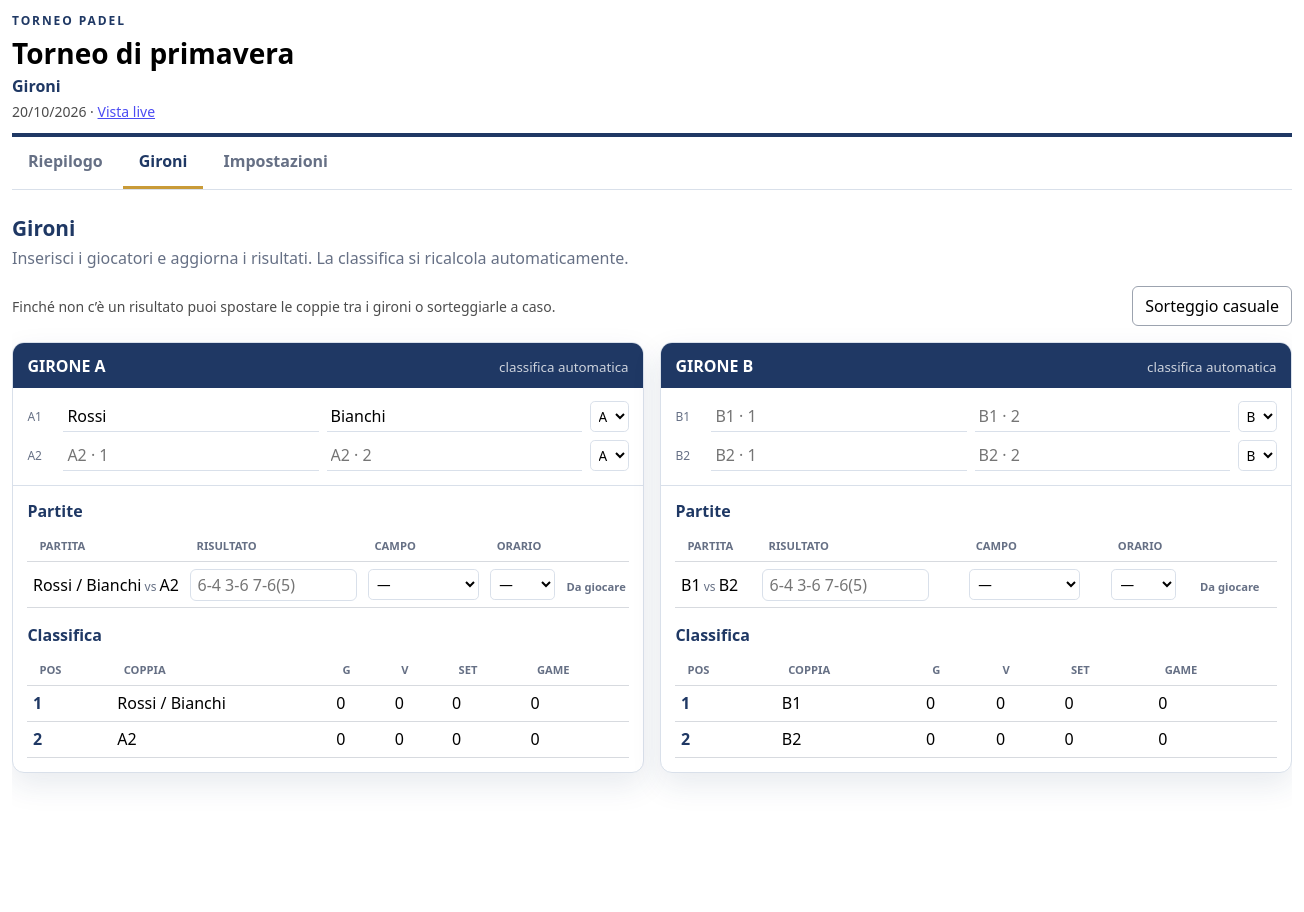
Test: TournamentPage › groups tab › saves the player names when leaving the field
Type "Verdi" into the field named "Giocatore 1 di A2" at {"x": 191, "y": 456}, box [63,440,318,471]
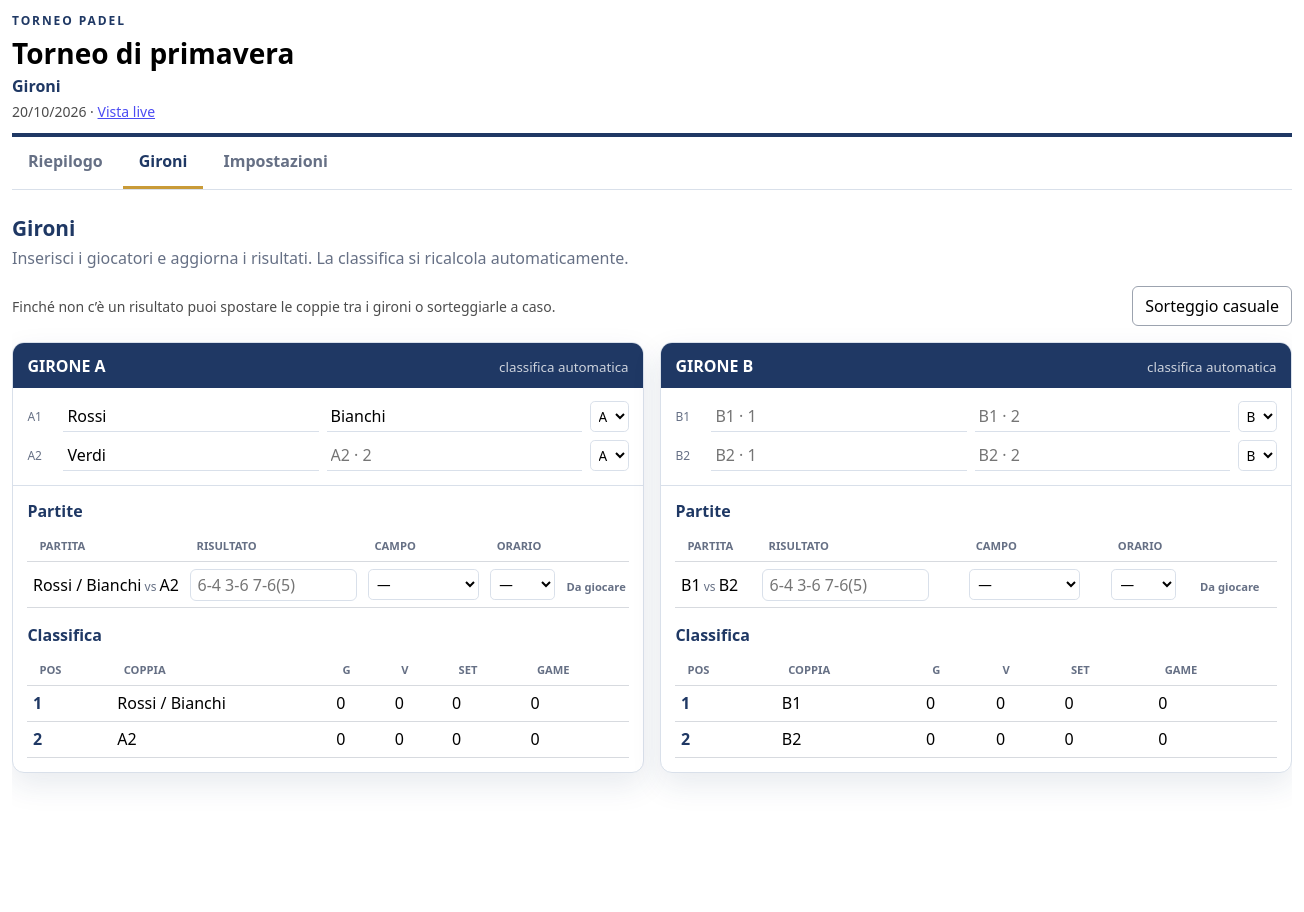
Leave the field named "Giocatore 1 di A2", box [63,440,318,471]
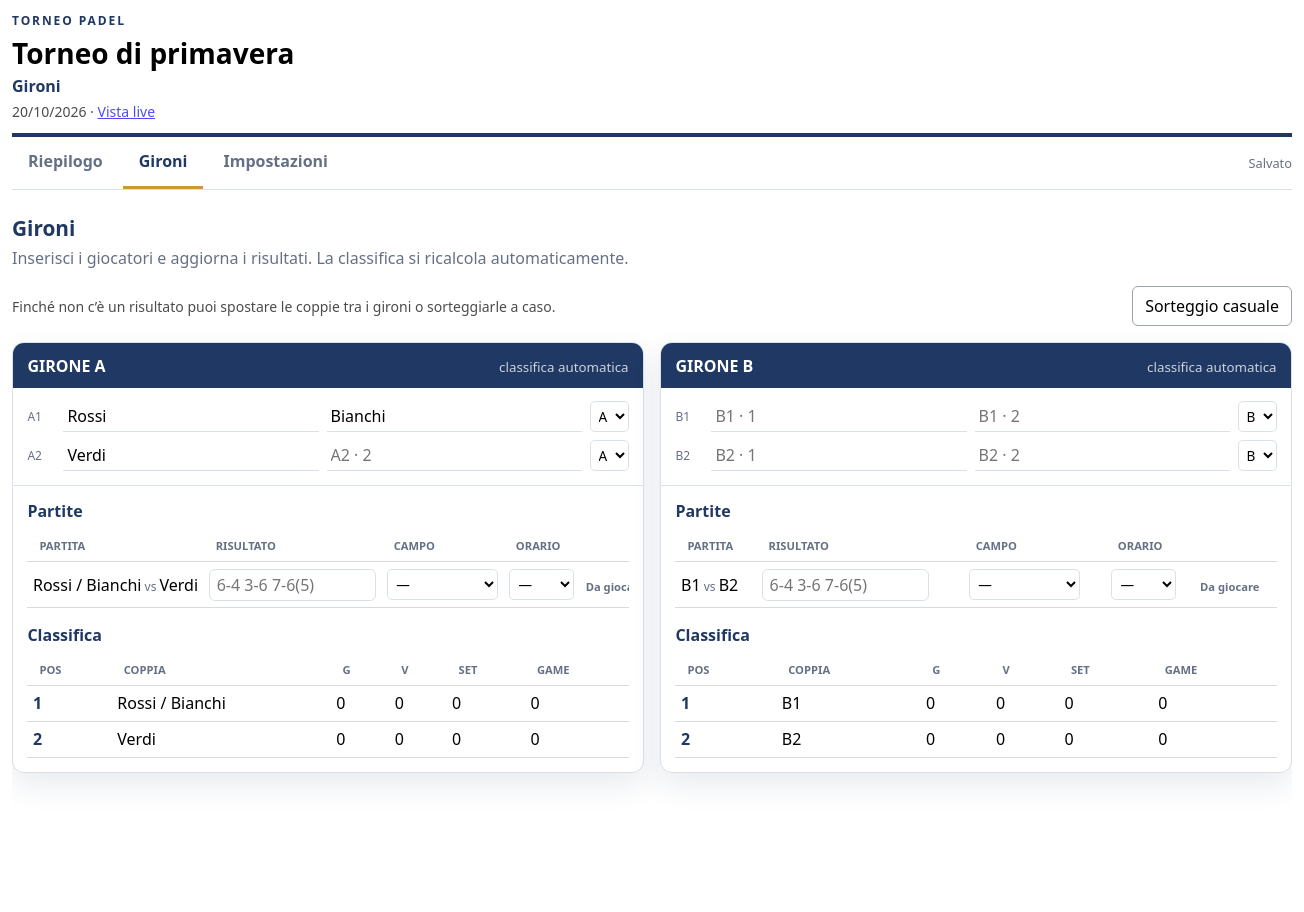
Result: the text "Salvato" is shown at [1248,154,1292,172]
Result: the text "Verdi" is shown at [112,721,330,757]
